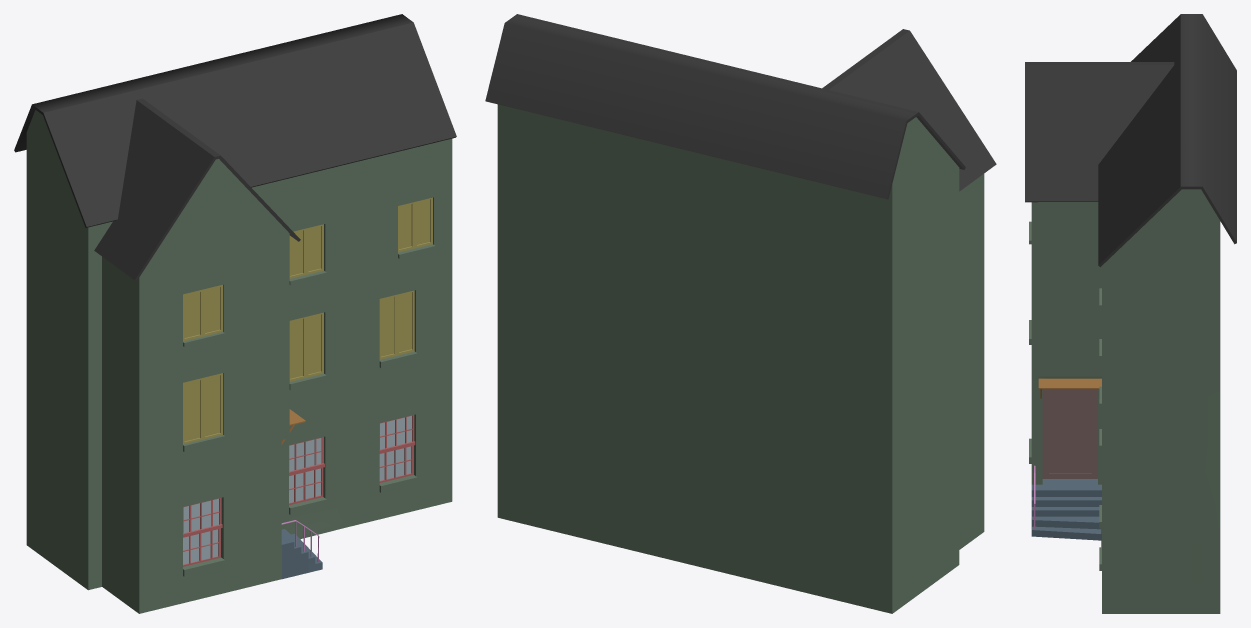
The model's file is Building_01B.fbx.
3 views of the same model, side by side, from view 1: azimuth 30°, elevation 25°; view 2: azimuth 150°, elevation 25°; view 3: azimuth 270°, elevation 25° (orthographic). The views are drawn at different scales.
Visible parts, largest first — view 1: Building_Shell, Roof, Roof1, transparent_window_glass1, transparent_window_glass3, transparent_window_glass2, Solid_Shutter_R5, Door_Steps, Solid_Shutter_L5, Solid_Shutter_R3, Solid_Shutter_R4, Solid_Shutter_L3 (+7 smaller); view 2: Building_Shell, Roof, Roof1; view 3: Building_Shell, Roof, Roof1, Door2, Door_Steps, Wooden_Awnins.
Part boxes in pixels (x1,y1,x2,y2): Building_Shell: [26, 110, 452, 613]; Roof: [14, 14, 456, 227]; Roof1: [94, 98, 300, 281]; transparent_window_glass1: [183, 498, 218, 564]; transparent_window_glass3: [379, 416, 411, 480]; transparent_window_glass2: [289, 438, 321, 502]; Solid_Shutter_R5: [202, 373, 222, 439]; Door_Steps: [281, 529, 322, 579]; Solid_Shutter_L5: [183, 378, 202, 444]; Solid_Shutter_R3: [396, 290, 414, 355]; Solid_Shutter_R4: [306, 312, 323, 377]; Solid_Shutter_L3: [379, 295, 396, 359]; Building_Shell: [497, 104, 984, 613]; Roof: [485, 14, 965, 199]; Roof1: [822, 29, 996, 191]; Building_Shell: [1029, 189, 1220, 613]; Roof: [1098, 14, 1236, 267]; Roof1: [1025, 62, 1174, 202]; Door2: [1042, 389, 1097, 478]; Door_Steps: [1031, 479, 1101, 540]; Wooden_Awnins: [1038, 378, 1101, 398].
Bounding box in the file's own units: 7.39 × 8.56 × 3.83.
